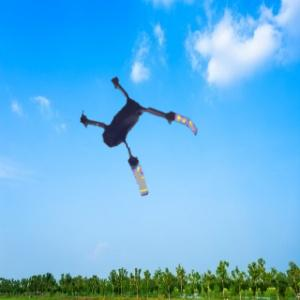drone: (63, 66, 201, 204)
